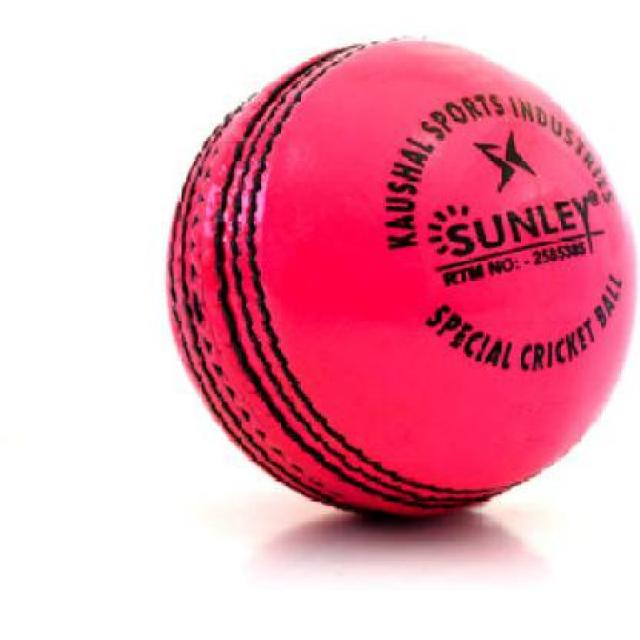ball: (0, 39, 640, 531)
